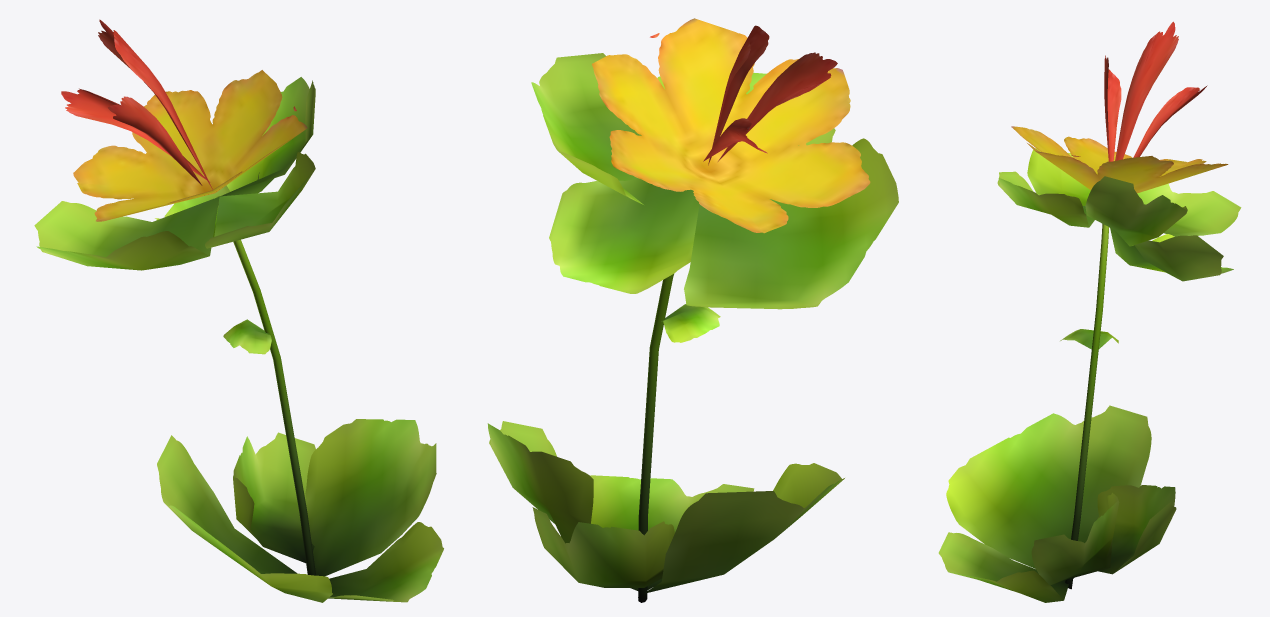
The model's file is flower-6.glb.
The picture shows the model from 3 angles, left to right: view 1: azimuth 30°, elevation 25°; view 2: azimuth 150°, elevation 25°; view 3: azimuth 270°, elevation 25°; orthographic projection. The views are drawn at different scales.
Parts seen in each view (by area): view 1: Flower_7_Single; view 2: Flower_7_Single; view 3: Flower_7_Single.
Boxes of the visible parts, box(x1,y1,x2,y2) form: Flower_7_Single: box(34, 19, 443, 602); Flower_7_Single: box(487, 18, 898, 602); Flower_7_Single: box(938, 21, 1241, 602).
Size of the model in its own units: 0.1976 by 0.3 by 0.1738.
Materials: 2 (2 with a texture image).
